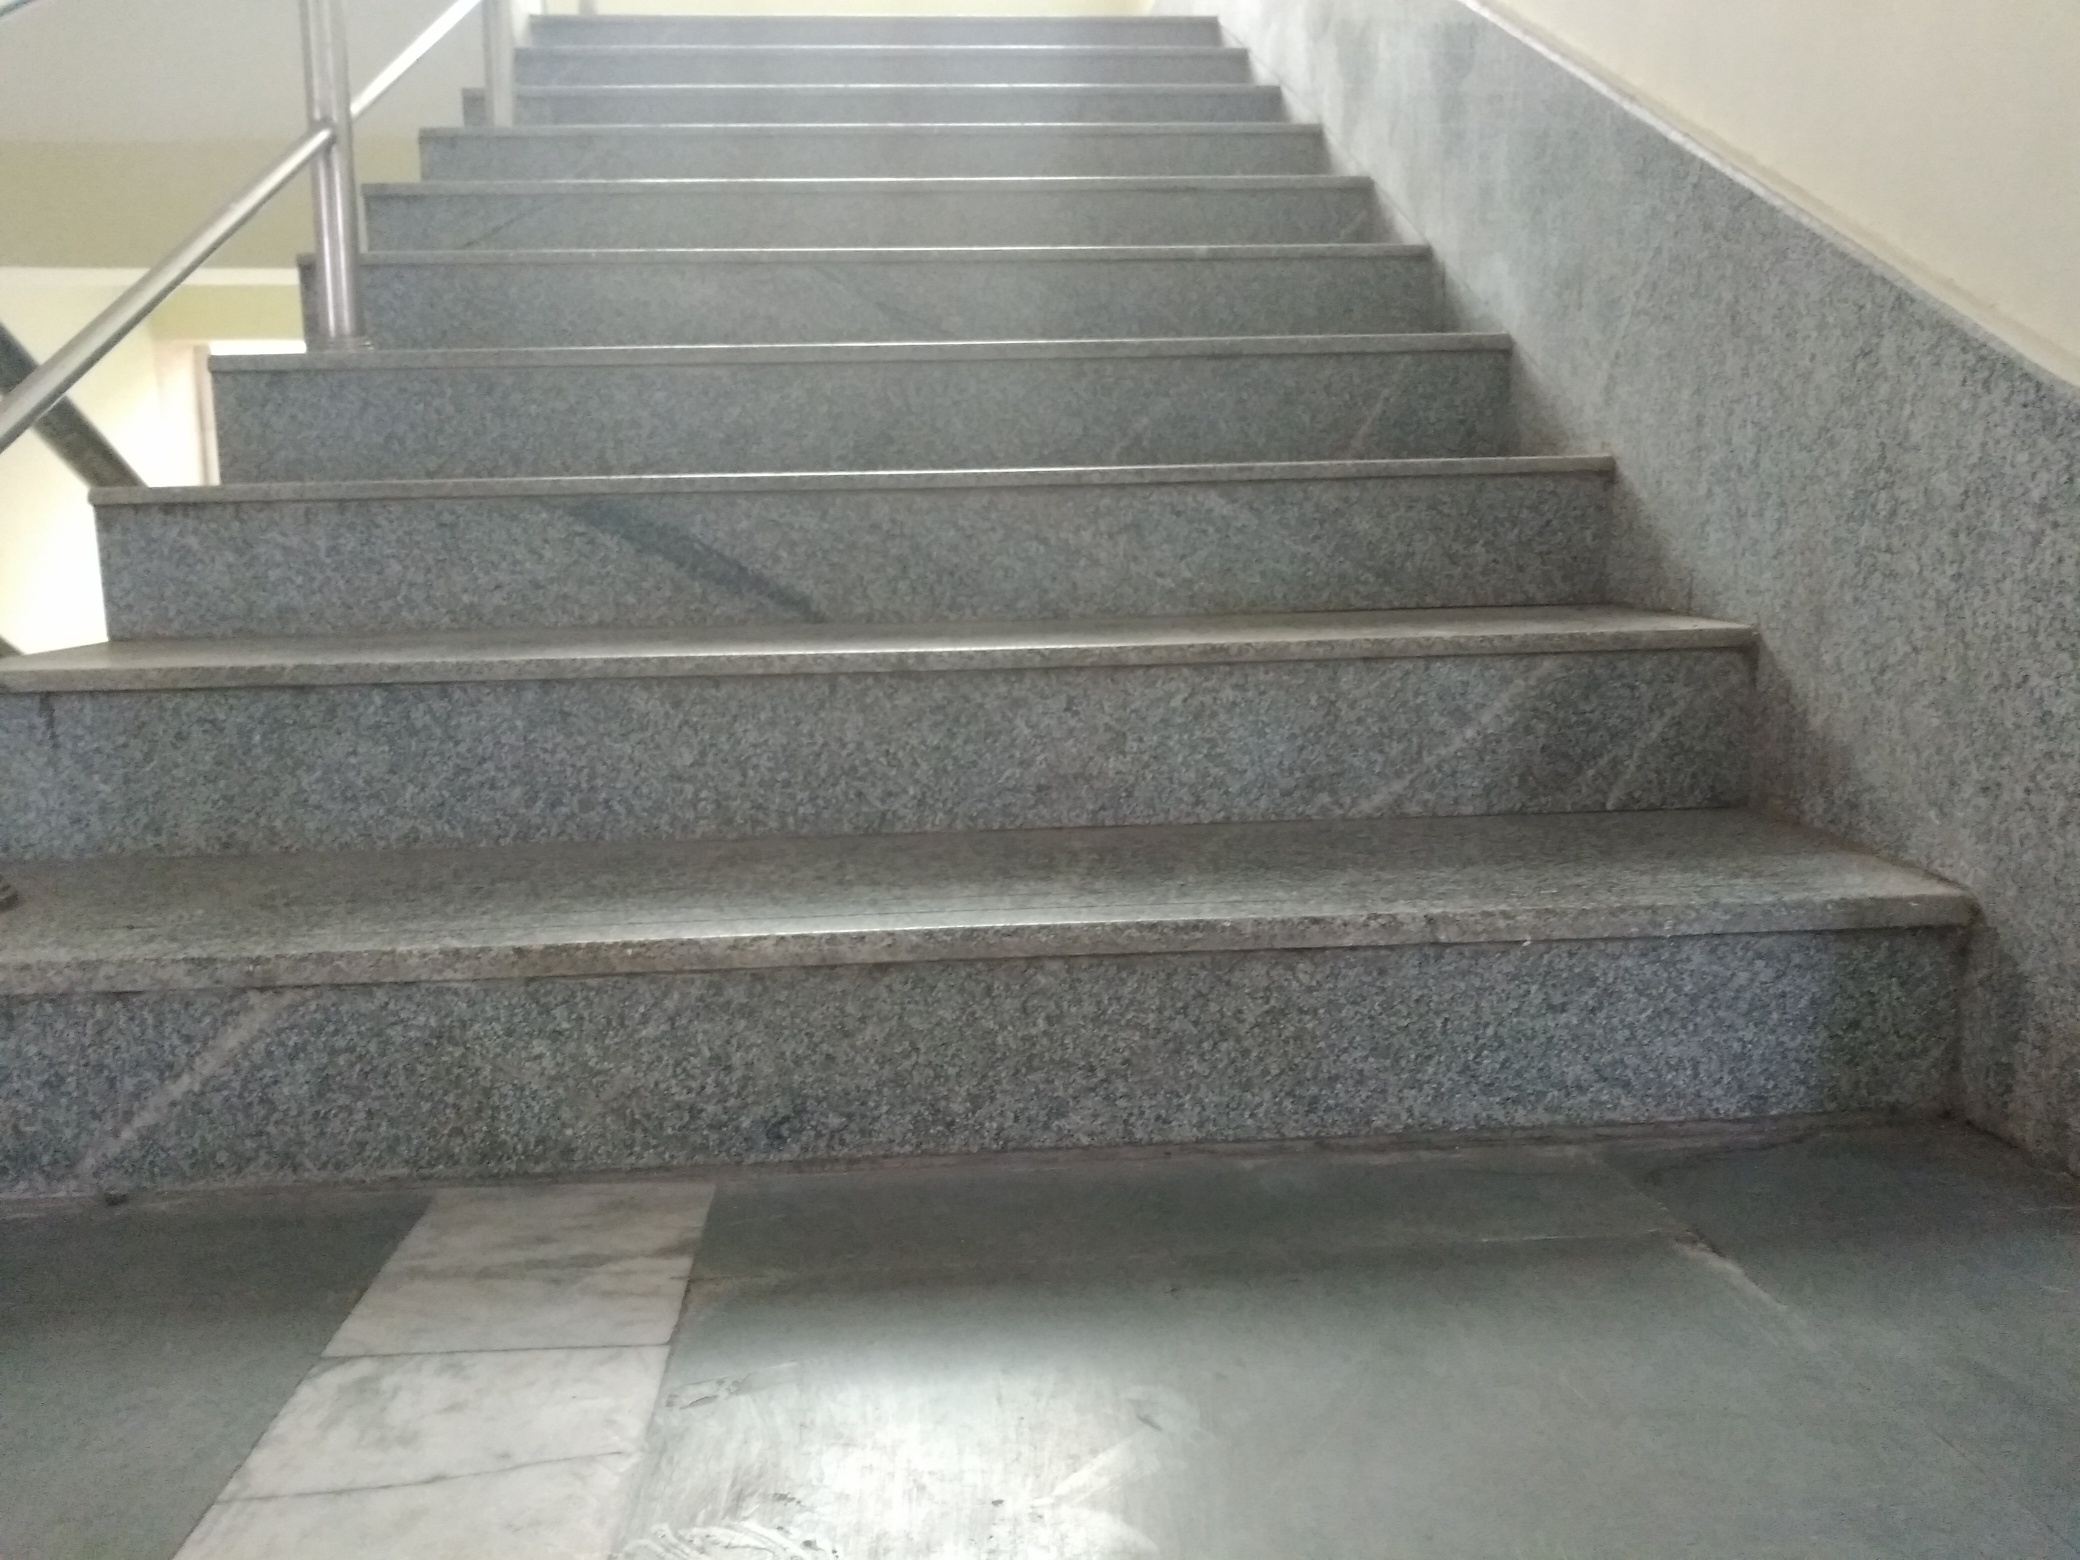stairs_up: (36, 7, 1978, 1213)
